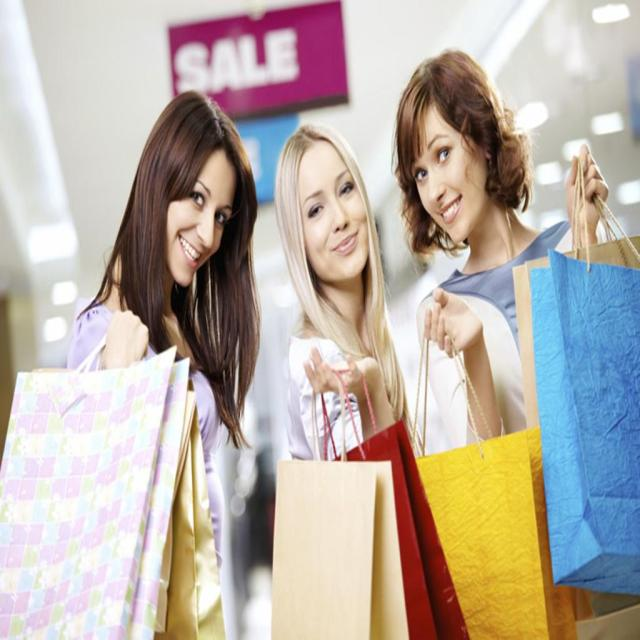Face: (400, 94, 503, 246), (283, 137, 378, 288), (167, 137, 242, 291)
